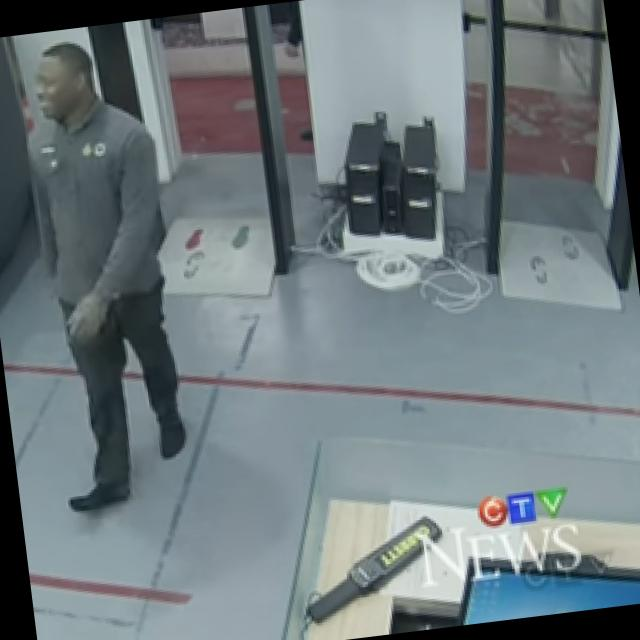person: (12, 31, 200, 512)
